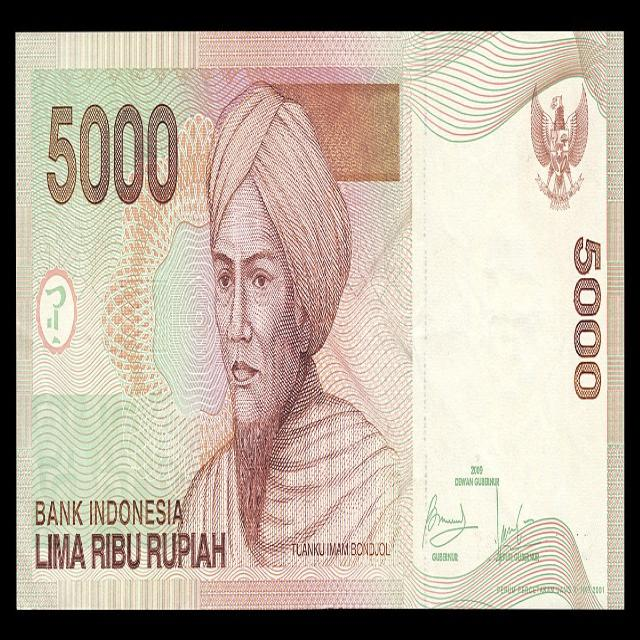lima ribu rupiah: (15, 30, 625, 610)
